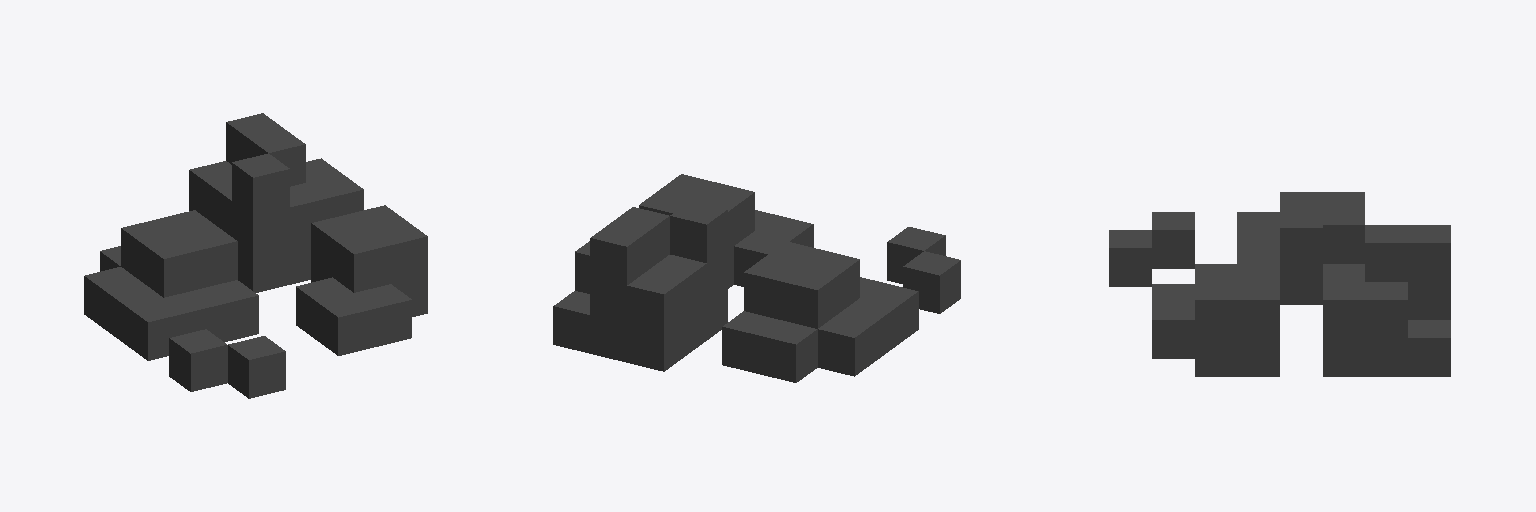
3 views of the same model, side by side, from view 1: azimuth 30°, elevation 25°; view 2: azimuth 150°, elevation 25°; view 3: azimuth 270°, elevation 25° (orthographic).
Parts seen in each view (by area): view 1: SmallRock2; view 2: SmallRock2; view 3: SmallRock2.
Part boxes in pixels (left/top/right/bottom): SmallRock2: left=84, top=113, right=427, bottom=398; SmallRock2: left=553, top=174, right=960, bottom=382; SmallRock2: left=1109, top=192, right=1450, bottom=376.
Size of the model in its own units: 7 by 3 by 8.
Materials: 1 (1 with a texture image).